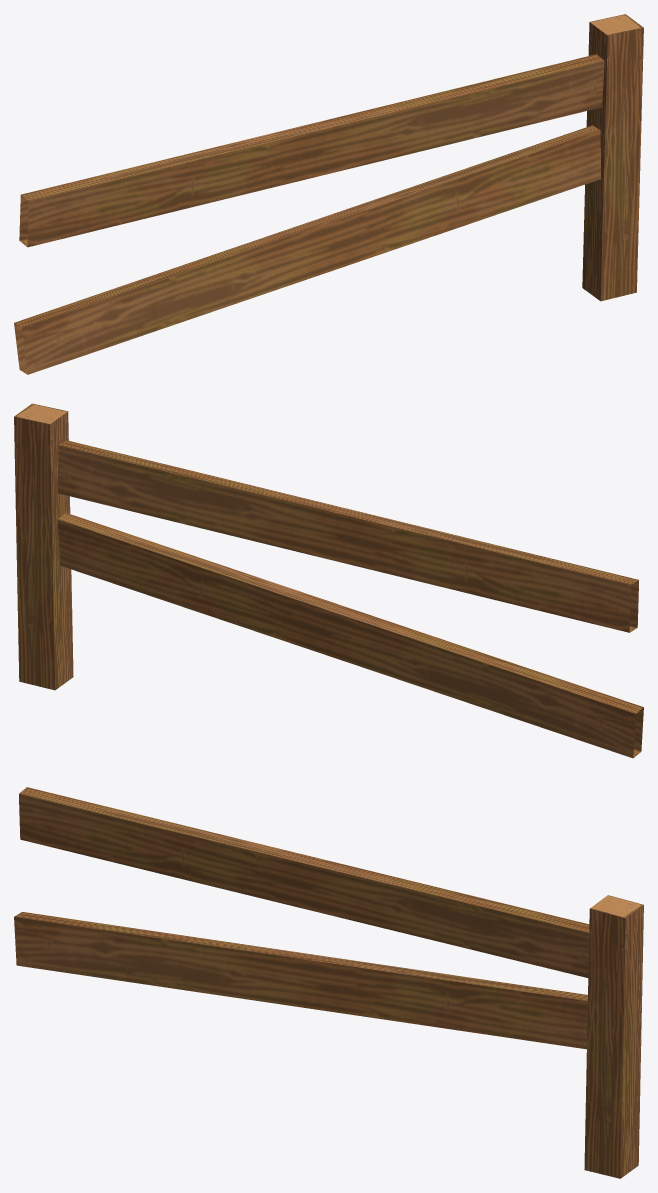
Rendered from Prop_WoodenFence_Extension1.gltf.
3 renders of one model, top to bottom at view 1: azimuth 30°, elevation 25°; view 2: azimuth 150°, elevation 25°; view 3: azimuth 330°, elevation 25°, orthographic.
Parts seen in each view (by area): view 1: Prop_WoodenFence_Extension1; view 2: Prop_WoodenFence_Extension1; view 3: Prop_WoodenFence_Extension1.
Boxes of the visible parts, left/top/right/bottom form: Prop_WoodenFence_Extension1: left=14, top=14, right=643, bottom=374; Prop_WoodenFence_Extension1: left=14, top=403, right=643, bottom=758; Prop_WoodenFence_Extension1: left=14, top=787, right=643, bottom=1178.
Size of the model in its own units: 2.05 by 0.8381 by 0.1104.
1 material, 1 textured.
